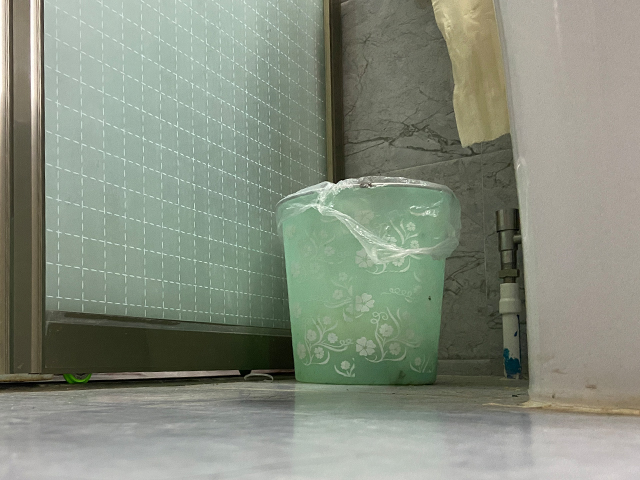trashcan: (275, 176, 461, 386)
